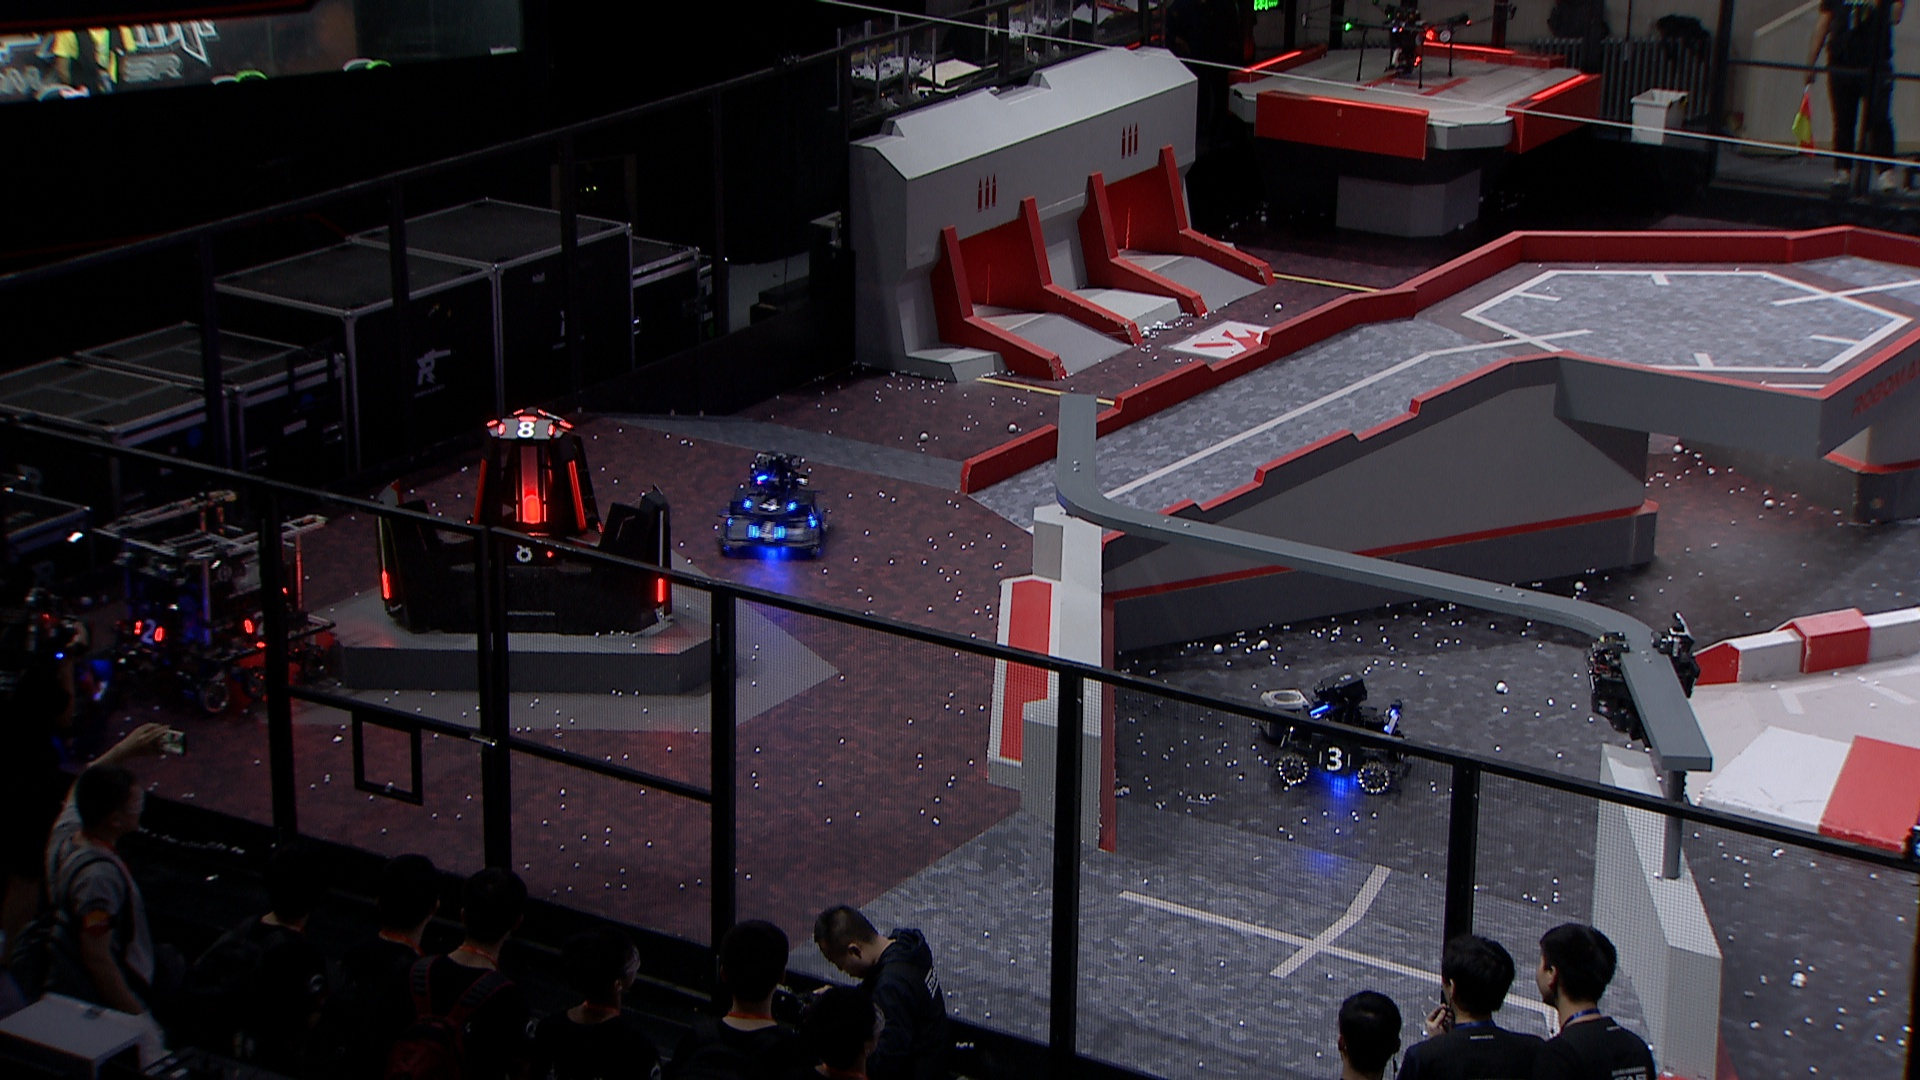armor: (512, 454, 549, 535), (562, 455, 591, 529), (504, 535, 558, 570), (467, 458, 493, 527), (495, 415, 556, 440), (243, 604, 278, 644), (1313, 742, 1356, 774), (742, 495, 802, 517), (129, 613, 167, 646), (749, 520, 789, 545), (373, 568, 394, 603), (803, 501, 823, 529), (651, 571, 667, 605)
base: (372, 405, 683, 628)
car: (86, 489, 340, 716), (1265, 670, 1414, 796), (713, 448, 840, 559)
watcher: (1585, 608, 1702, 745)
